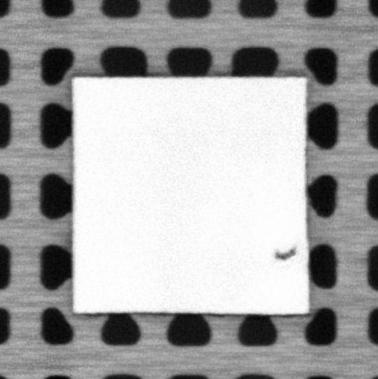DIE_INK: (273, 244, 297, 261)
